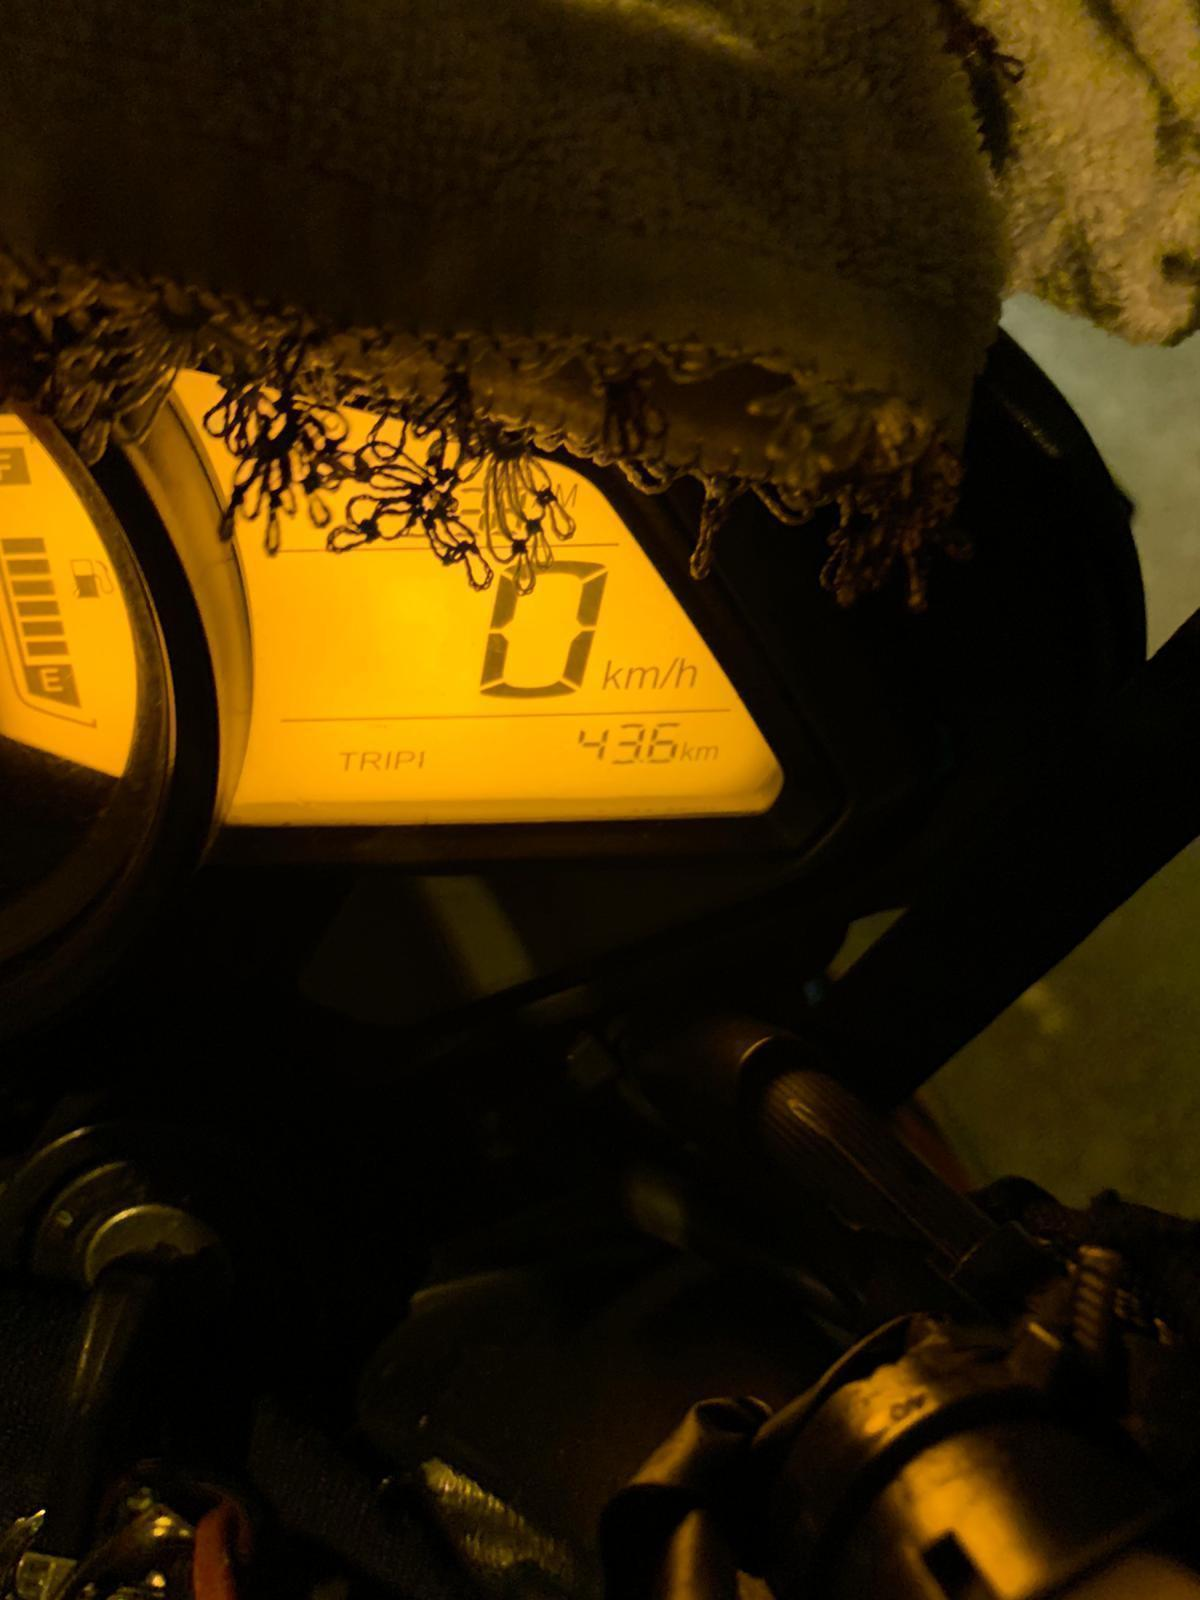,: (638, 757, 645, 766)
0: (484, 556, 606, 703)
1: (416, 743, 429, 771)
3: (613, 721, 645, 767)
4: (576, 724, 609, 763)
6: (649, 718, 681, 766)
X: (625, 663, 659, 692), (676, 653, 698, 690), (555, 476, 582, 506), (601, 658, 623, 692), (358, 746, 381, 775), (661, 653, 677, 688), (337, 745, 355, 775), (395, 745, 413, 775), (695, 745, 721, 763), (679, 740, 695, 763), (384, 745, 393, 775)
odometer: (120, 350, 821, 838)
